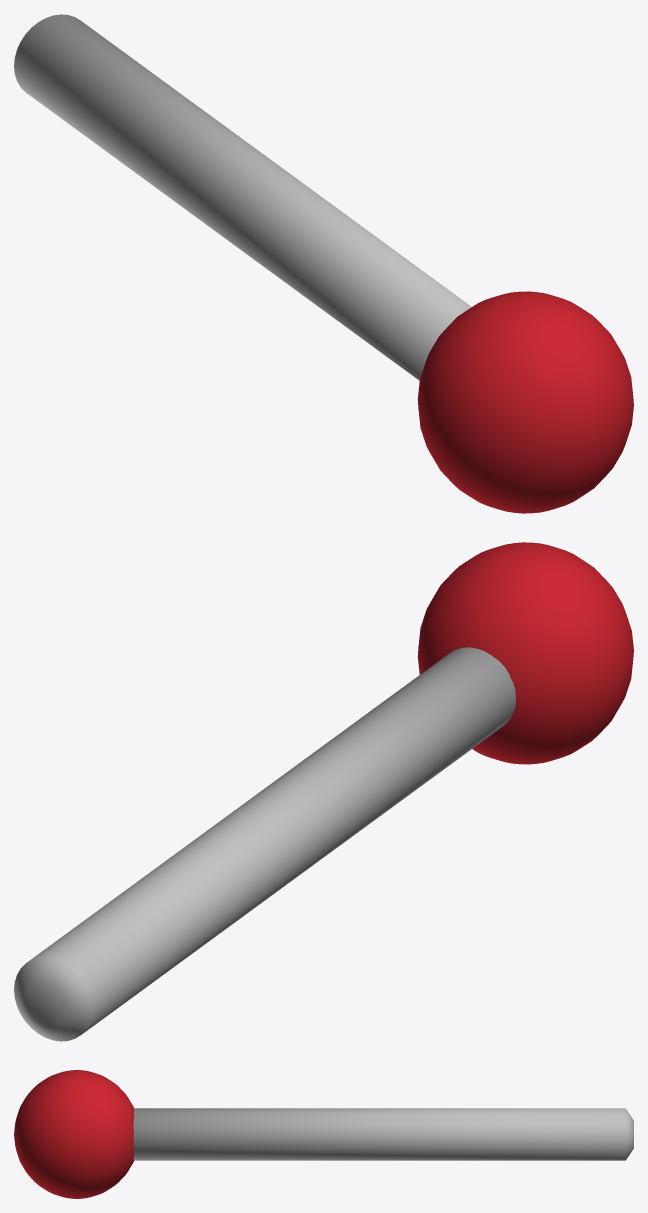
Rendered from Lever_Handle.glb.
3 views of the same model, one above another, from view 1: azimuth 30°, elevation 25°; view 2: azimuth 150°, elevation 25°; view 3: azimuth 270°, elevation 25° (orthographic). The views are drawn at different scales.
Parts seen in each view (by area): view 1: Cylinder.001, Sphere; view 2: Cylinder.001, Sphere; view 3: Cylinder.001, Sphere.
Boxes of the visible parts, x1=… form: Cylinder.001: x1=14, y1=14, x2=471, y2=380; Sphere: x1=417, y1=291, x2=633, y2=513; Cylinder.001: x1=14, y1=647, x2=515, y2=1041; Sphere: x1=417, y1=542, x2=633, y2=764; Cylinder.001: x1=133, y1=1108, x2=633, y2=1160; Sphere: x1=14, y1=1070, x2=134, y2=1198.
Bounding box in the file's own units: 1.61 × 1.66 × 7.91.
